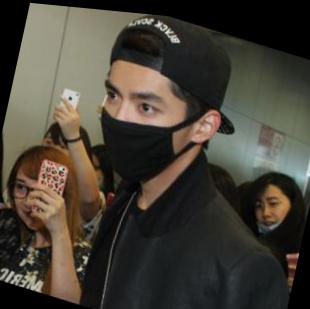NONE: (6, 169, 63, 238)
OK: (88, 59, 194, 190)
WRONG: (251, 181, 296, 236)
